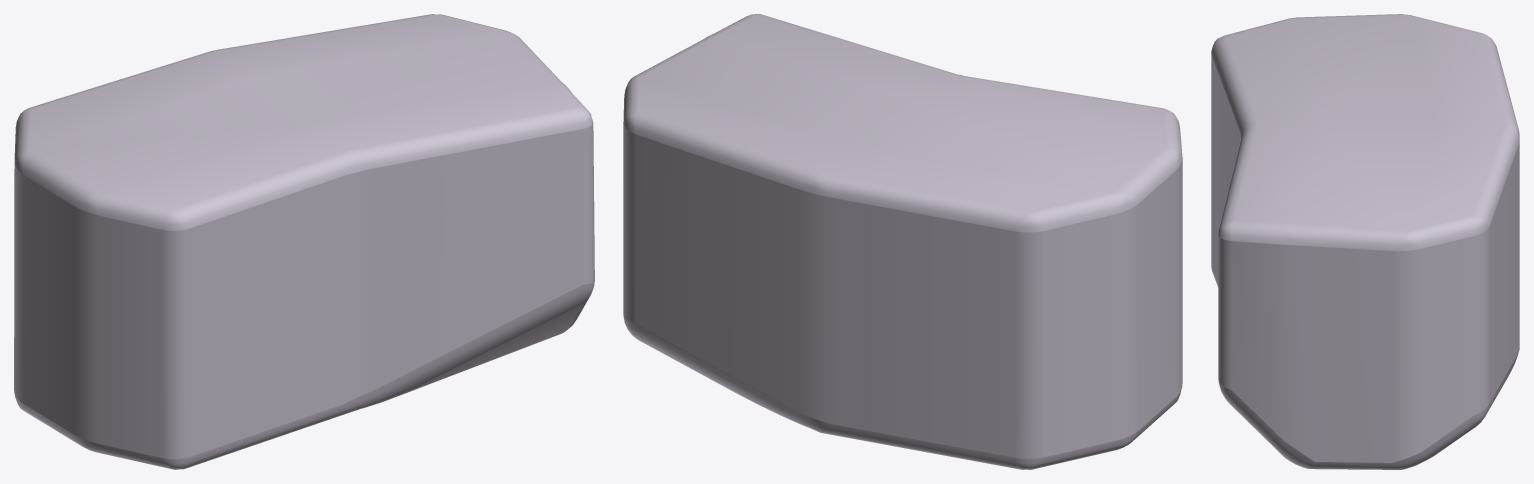
Rendered from SM_Cliffs2.fbx.
3 renders of one model, left to right at view 1: azimuth 30°, elevation 25°; view 2: azimuth 150°, elevation 25°; view 3: azimuth 270°, elevation 25°, orthographic. The views are drawn at different scales.
Parts seen in each view (by area): view 1: SM_Cliffs2; view 2: SM_Cliffs2; view 3: SM_Cliffs2.
Part boxes in pixels (x1,y1,x2,y2): SM_Cliffs2: (14, 14, 594, 469); SM_Cliffs2: (623, 14, 1182, 469); SM_Cliffs2: (1211, 14, 1519, 469).
Bounding box in the file's own units: 13.87 × 6.76 × 7.89.
